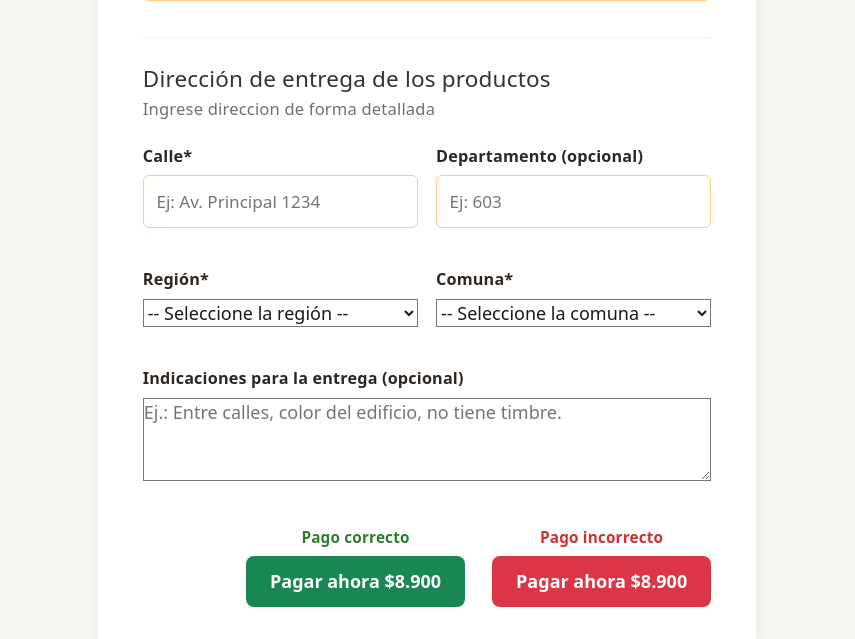
Test: Vista de Comprar (Checkout) › Debe mostrar la pantalla de error al hacer clic en Pago Incorrecto
(page scrolled)
Step 1. Click the button "Pagar ahora $8.900" below "Pago incorrecto" → {"x": 602, "y": 582}, box [492,556,711,607]
(page scrolled)
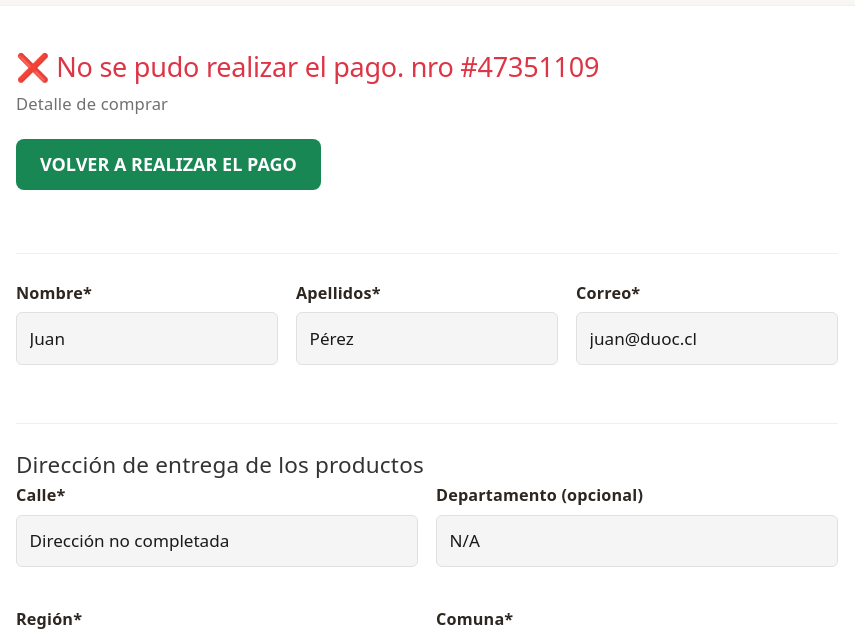
Expected: the heading "❌ No se pudo realizar el pago. nro #47351109" is shown, [16,48,599,85]
